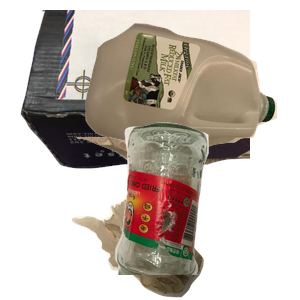cardboard: (18, 10, 258, 171)
glass: (112, 120, 300, 300)
plastic: (83, 21, 300, 162)
trash: (66, 137, 263, 300)
